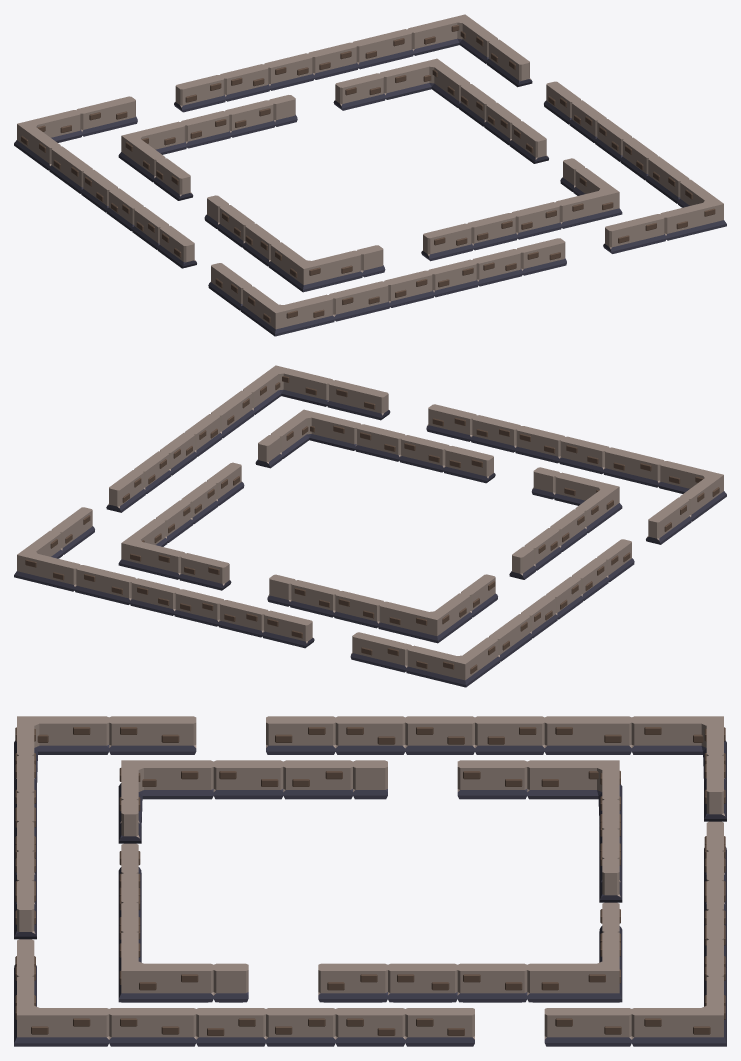
File: NewWalls.fbx
The picture shows the model from 3 angles, top to bottom: view 1: azimuth 30°, elevation 25°; view 2: azimuth 150°, elevation 25°; view 3: azimuth 270°, elevation 25°; orthographic projection. The views are drawn at different scales.
Visible parts, largest first — view 1: Cube.220; view 2: Cube.220; view 3: Cube.220.
Boxes of the visible parts, box(x1,y1,x2,y2) form: Cube.220: box(14, 14, 726, 336); Cube.220: box(14, 365, 726, 687); Cube.220: box(14, 716, 726, 1046).
Size of the model in its own units: 40.93 by 2 by 40.93.
